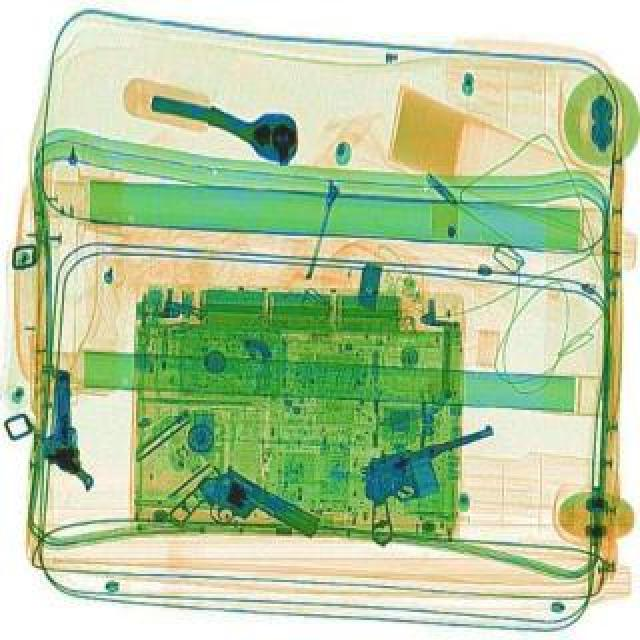gun: (342, 412, 526, 548), (166, 452, 326, 584), (44, 368, 96, 488)
